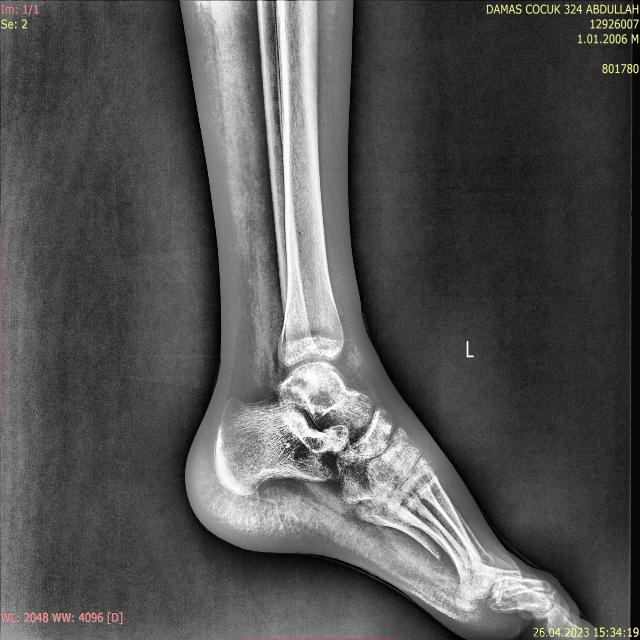Not_Fracture: (158, 20, 531, 640)
